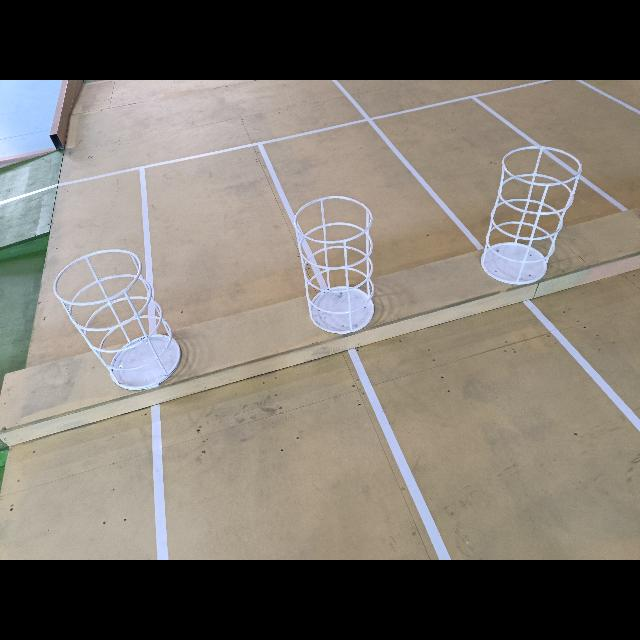S: (51, 249, 182, 393), (480, 144, 583, 287), (297, 196, 376, 336)
